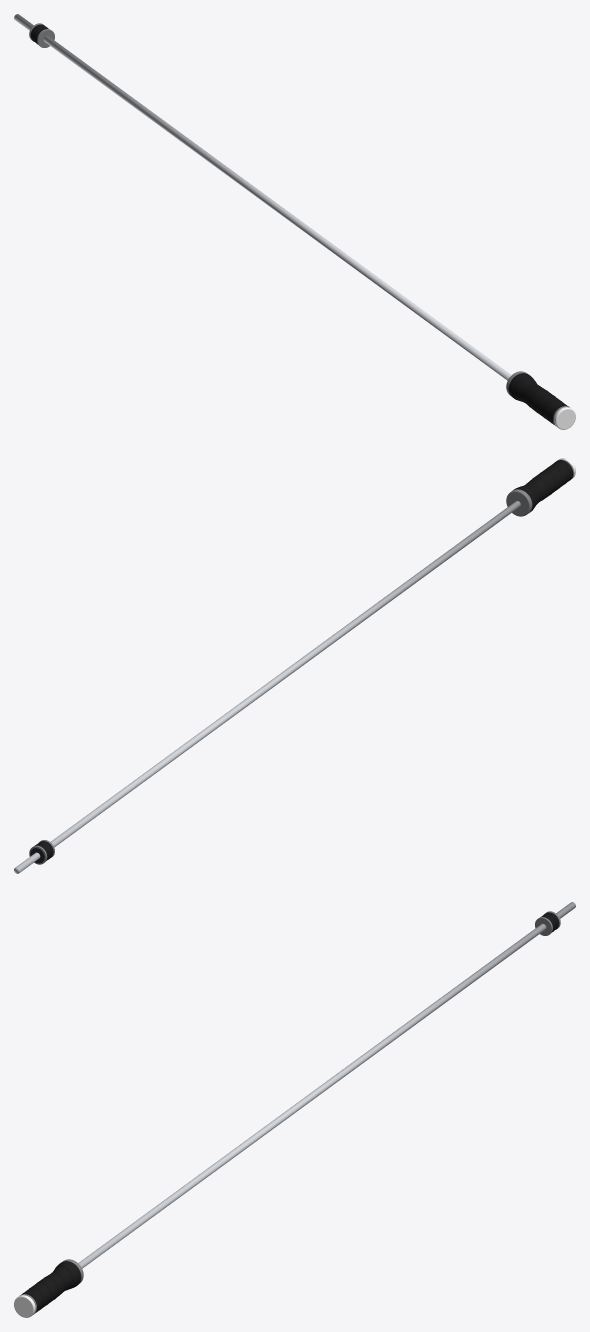
Rendered from fuzeball_rod_3man.glb.
The picture shows the model from 3 angles, top to bottom: view 1: azimuth 30°, elevation 25°; view 2: azimuth 150°, elevation 25°; view 3: azimuth 330°, elevation 25°; orthographic projection.
Parts seen in each view (by area): view 1: rod3_bar.002, rod3_handle_wrapped_grip; view 2: rod3_bar.002, rod3_handle_wrapped_grip; view 3: rod3_bar.002, rod3_handle_wrapped_grip.
Part boxes in pixels (box(x1,y1,x2,y2)): rod3_bar.002: box(14, 14, 511, 380); rod3_handle_wrapped_grip: box(508, 373, 568, 424); rod3_bar.002: box(14, 501, 520, 873); rod3_handle_wrapped_grip: box(514, 460, 573, 512); rod3_bar.002: box(78, 902, 575, 1268); rod3_handle_wrapped_grip: box(21, 1261, 80, 1312).
Size of the model in its own units: 3.12 by 3.14 by 122.
5 materials, 2 textured.
